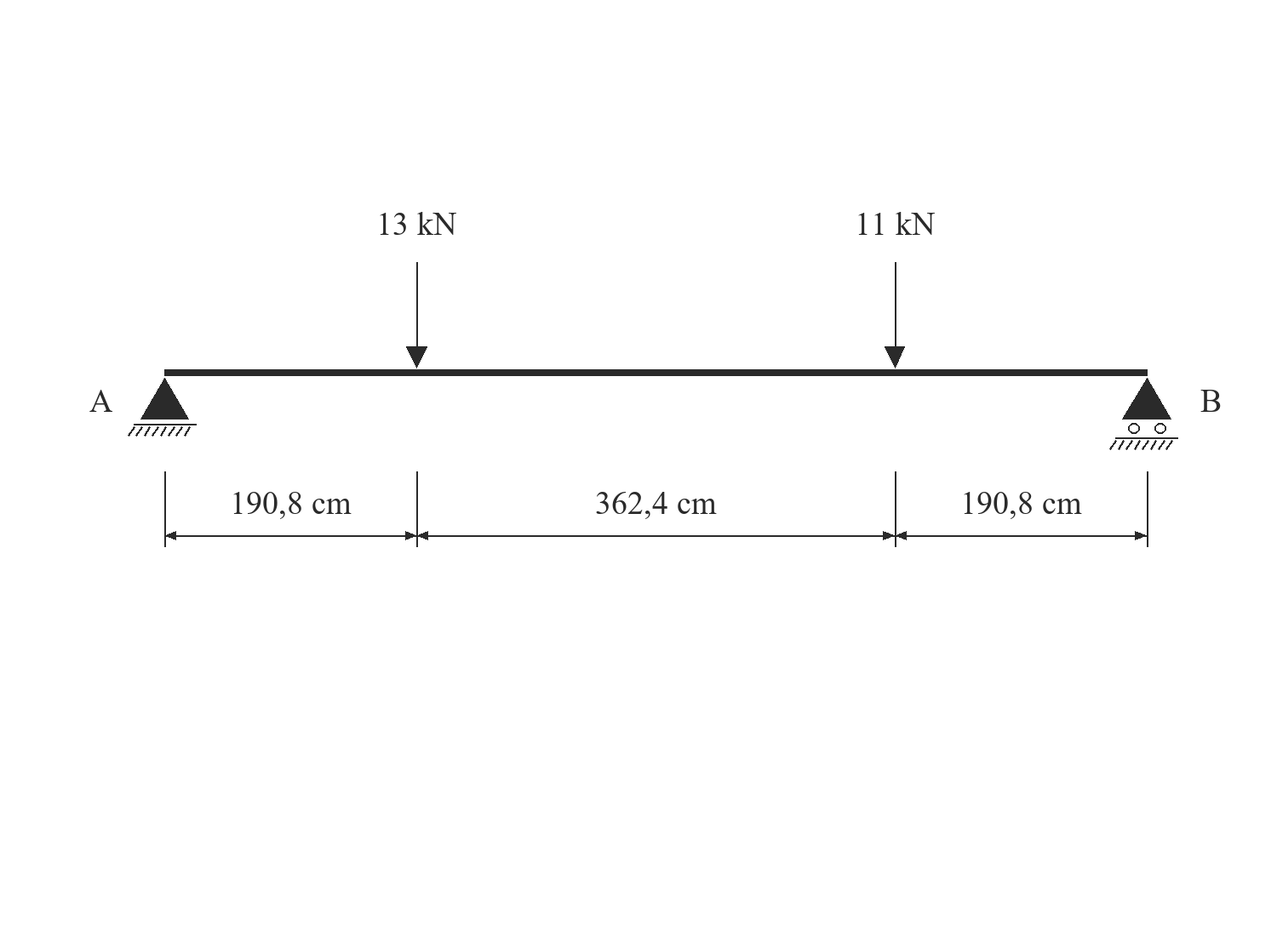pin_support: (128, 378, 197, 437)
point_load: (406, 262, 427, 368), (885, 262, 905, 368)
roller_support: (1109, 378, 1178, 450)
